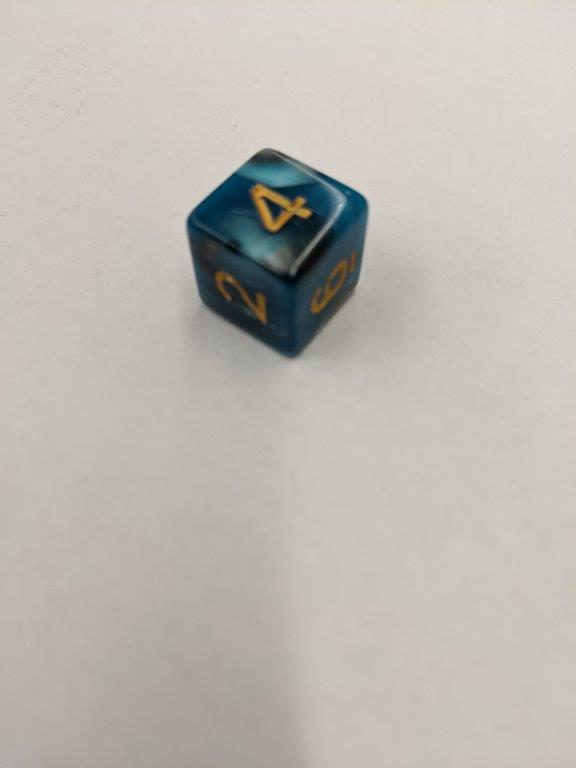d6-4: (187, 145, 370, 358)
